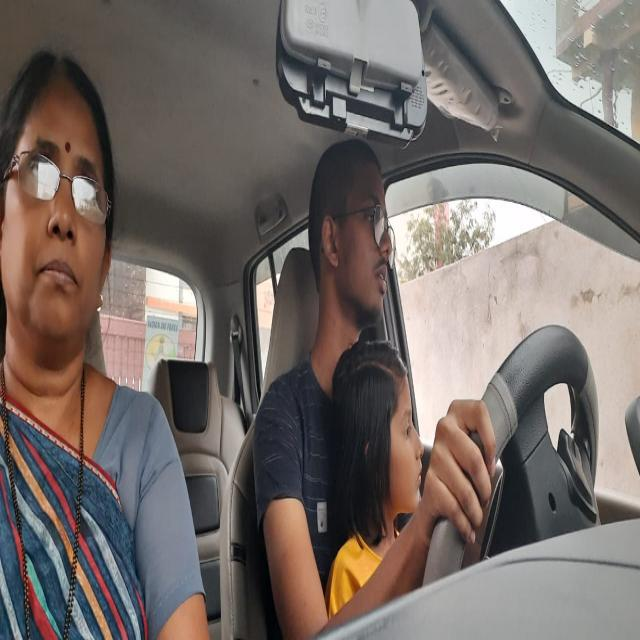child: (330, 342, 424, 530)
person: (2, 46, 117, 360), (306, 135, 397, 330)
